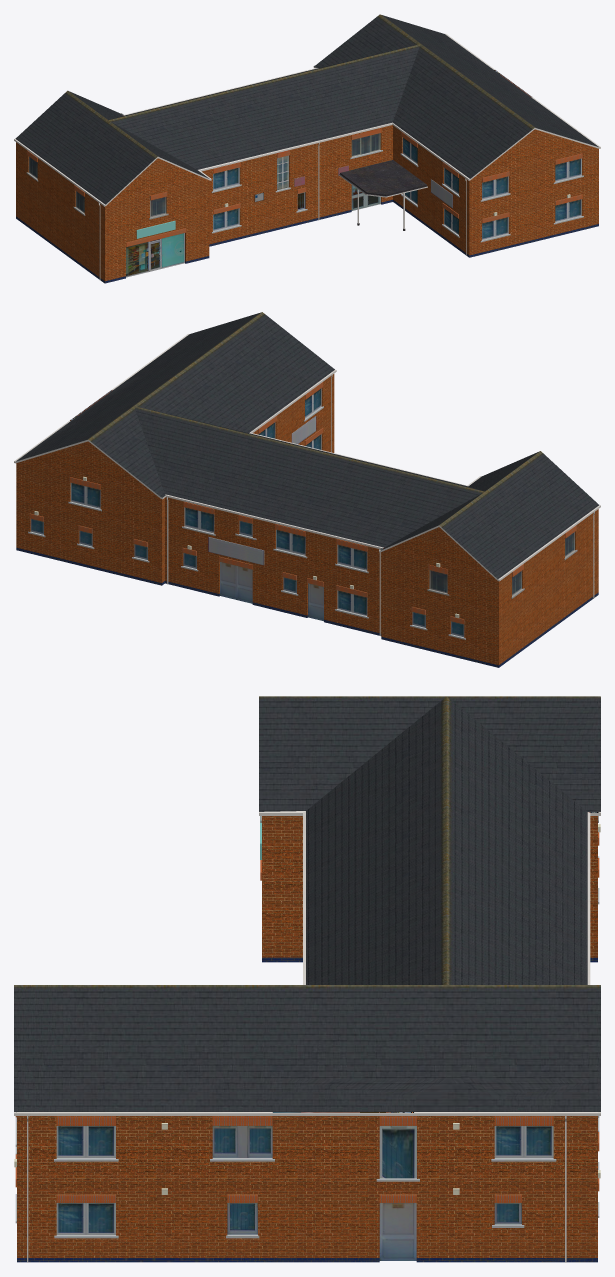
Rendered from MedicalBuilding.FBX.
3 views of the same model, one above another, from view 1: azimuth 30°, elevation 25°; view 2: azimuth 150°, elevation 25°; view 3: azimuth 270°, elevation 25° (orthographic). The views are drawn at different scales.
Parts seen in each view (by area): view 1: MedicalBuilding; view 2: MedicalBuilding; view 3: MedicalBuilding.
Boxes of the visible parts, <box> form: MedicalBuilding: <box>14,14,600,283</box>; MedicalBuilding: <box>14,312,600,667</box>; MedicalBuilding: <box>14,696,600,1262</box>.
Size of the model in its own units: 3575 by 908 by 2222.
